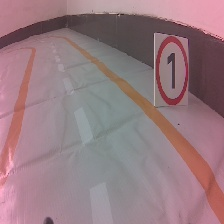limit: (152, 30, 190, 110)
